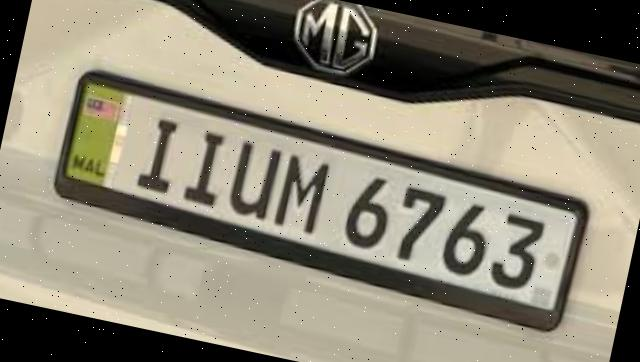License_Plate: (44, 64, 597, 336)
